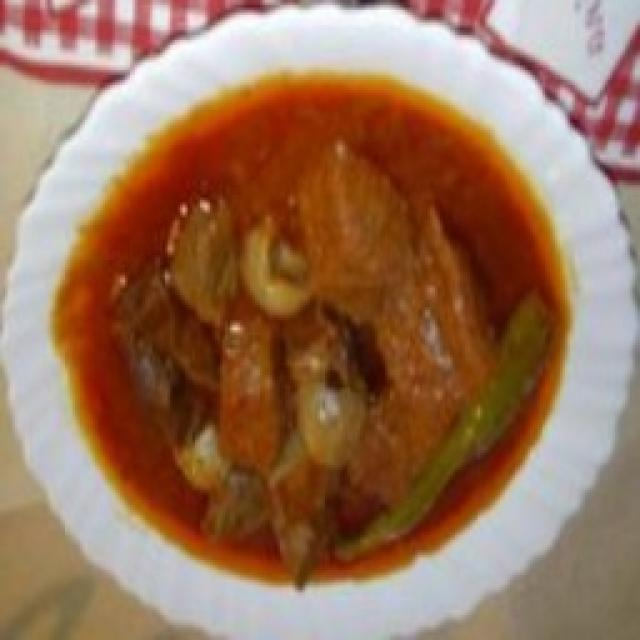Kamouniya: (2, 7, 632, 640)
